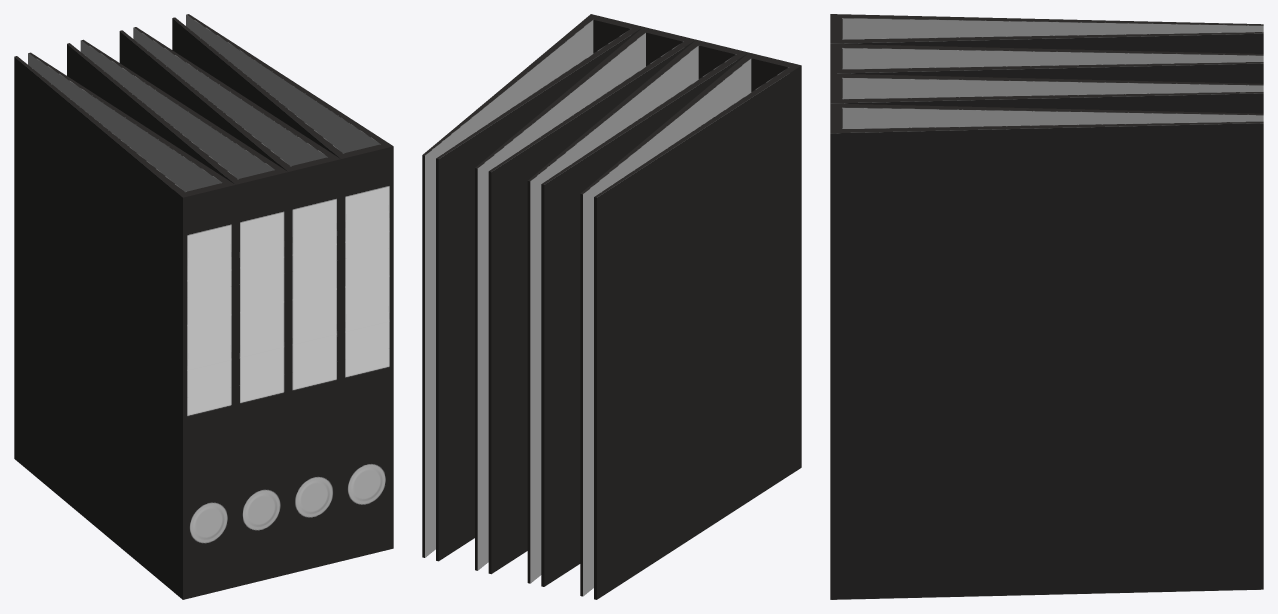
The model's file is StackedFolder.fbx.
3 renders of one model, left to right at view 1: azimuth 30°, elevation 25°; view 2: azimuth 150°, elevation 25°; view 3: azimuth 270°, elevation 25°, orthographic. The views are drawn at different scales.
Parts seen in each view (by area): view 1: Combined Arch Folder; view 2: Combined Arch Folder; view 3: Combined Arch Folder.
Part boxes in pixels (x1,y1,x2,y2): Combined Arch Folder: [14, 14, 393, 599]; Combined Arch Folder: [422, 14, 801, 599]; Combined Arch Folder: [830, 14, 1263, 599].
Size of the model in its own units: 8.92 by 16.27 by 13.69.
Materials: 4 (4 with a texture image).
